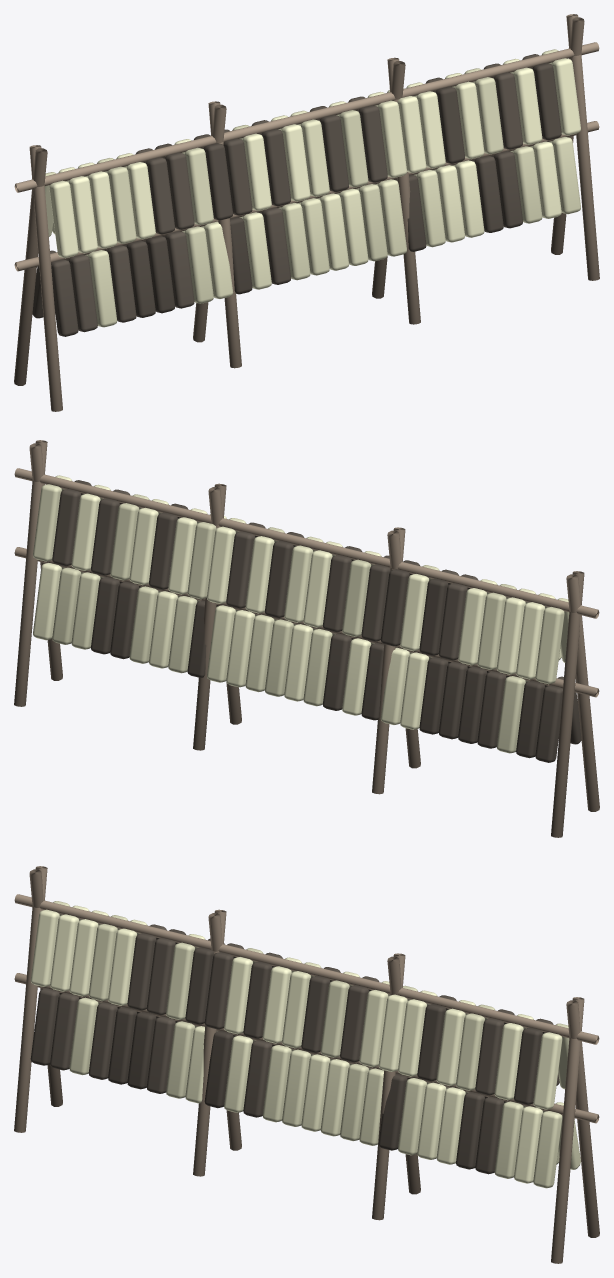
File: hay_rack_burnt.glb
The picture shows the model from 3 angles, top to bottom: view 1: azimuth 30°, elevation 25°; view 2: azimuth 150°, elevation 25°; view 3: azimuth 330°, elevation 25°; orthographic projection.
Visible parts, largest first — view 1: hay_rack_burnt; view 2: hay_rack_burnt; view 3: hay_rack_burnt.
Boxes of the visible parts, x1,y1,x2,y2 form: hay_rack_burnt: (14,14,599,411); hay_rack_burnt: (14,440,599,837); hay_rack_burnt: (14,866,599,1263).
Size of the model in its own units: 5.4 by 2.22 by 0.6988.
